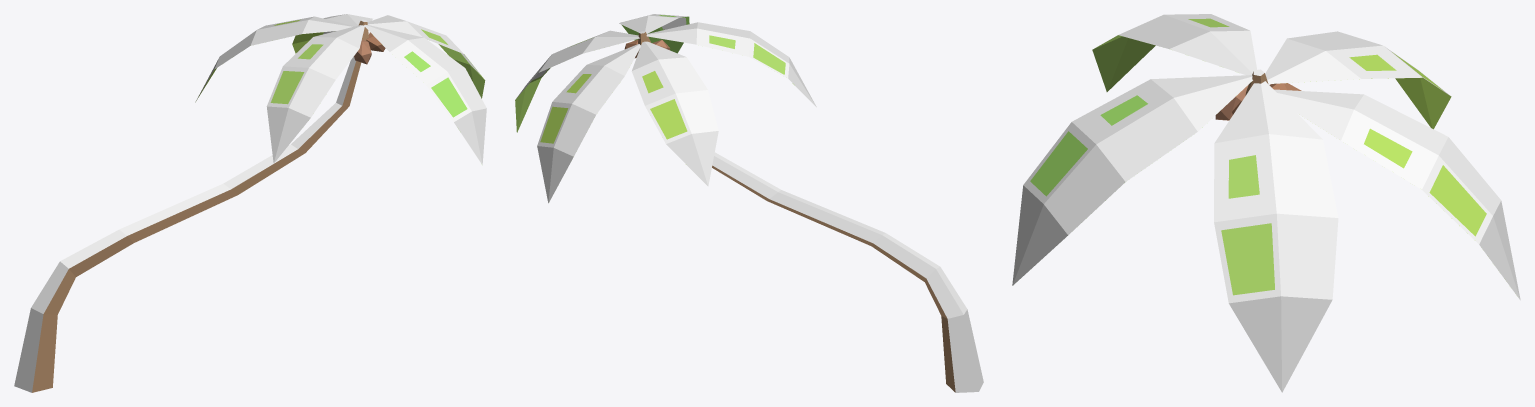
File: Palm_Tree_Coconut_s_Snow_BT_05.fbx
The picture shows the model from 3 angles, left to right: view 1: azimuth 30°, elevation 25°; view 2: azimuth 150°, elevation 25°; view 3: azimuth 270°, elevation 25°; orthographic projection. The views are drawn at different scales.
Visible parts, largest first — view 1: Palm_Tree_Coconut_s_Snow_BT_05; view 2: Palm_Tree_Coconut_s_Snow_BT_05; view 3: Palm_Tree_Coconut_s_Snow_BT_05.
Part boxes in pixels (bbox=[...]): Palm_Tree_Coconut_s_Snow_BT_05: bbox=[14, 14, 486, 392]; Palm_Tree_Coconut_s_Snow_BT_05: bbox=[515, 14, 983, 392]; Palm_Tree_Coconut_s_Snow_BT_05: bbox=[1012, 14, 1520, 392].
Bounding box in the file's own units: 443 × 258 × 244.
